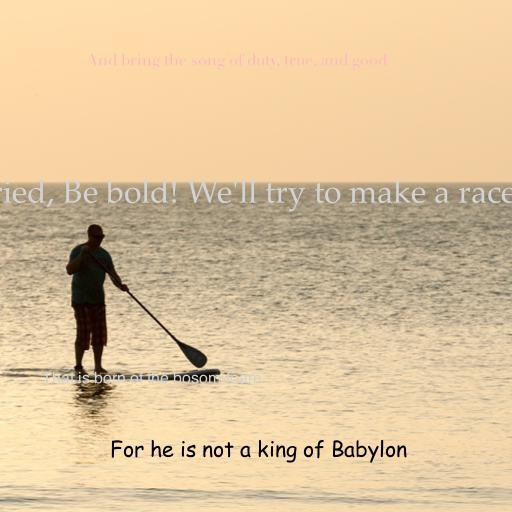Comic Sans MS: (109, 439, 407, 463)
Didot: (85, 53, 387, 70)
Impact: (41, 371, 261, 384)
Palatino: (0, 179, 512, 212)
